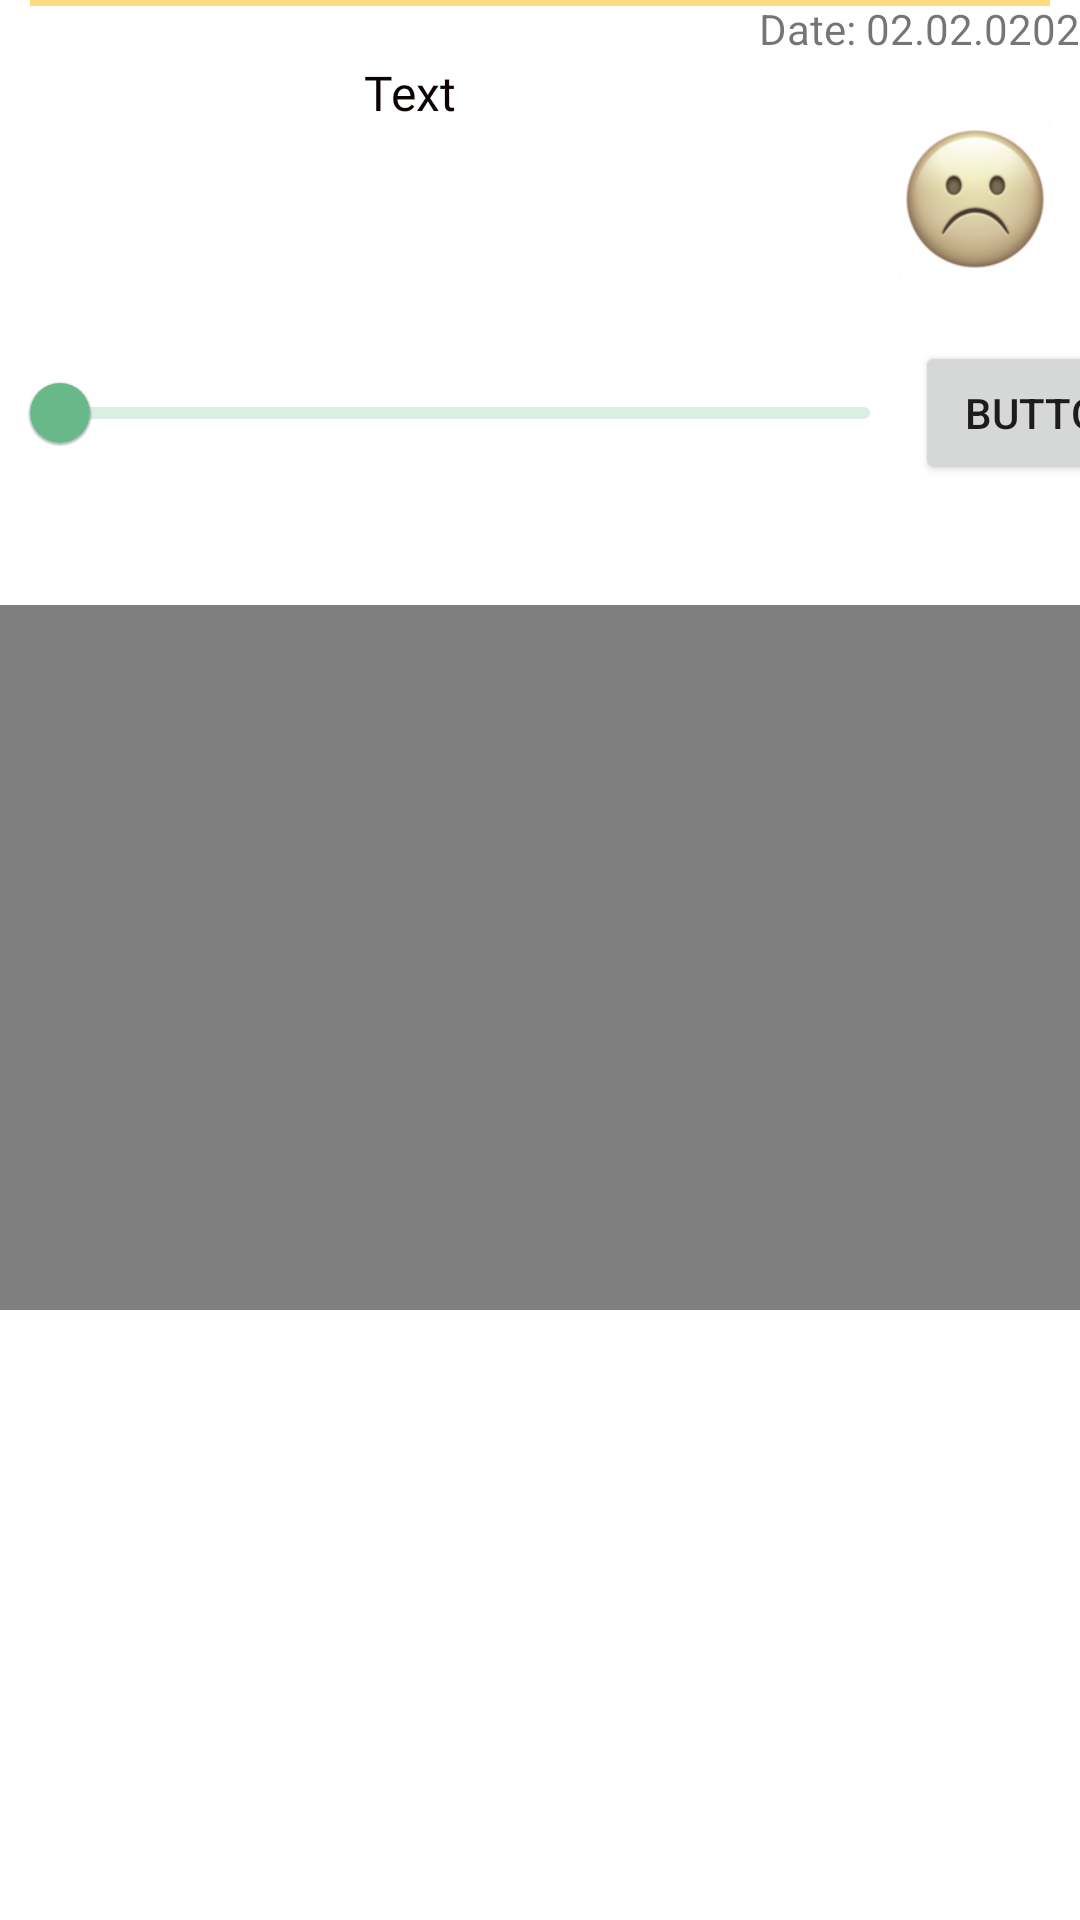

Where icons sit on this 1080 x 1920 app screen, as bbox=(x1, y1, x2, y2):
radio frowning: bbox=(906, 130, 1044, 268)
